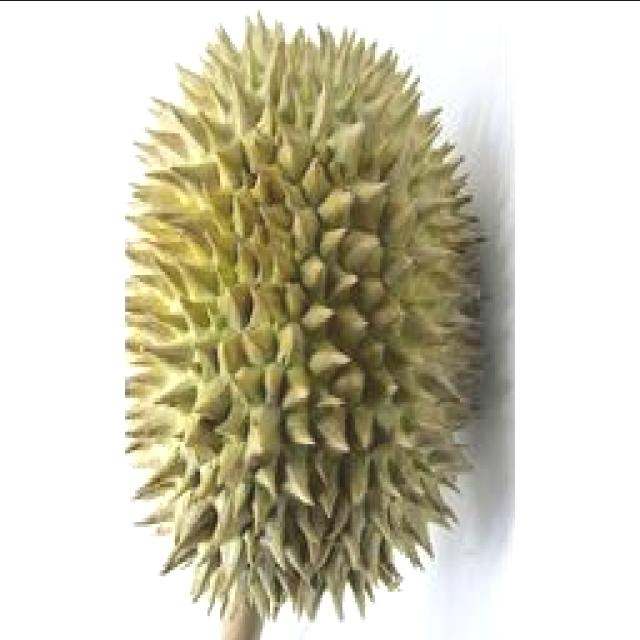agrume: (95, 8, 497, 637)
